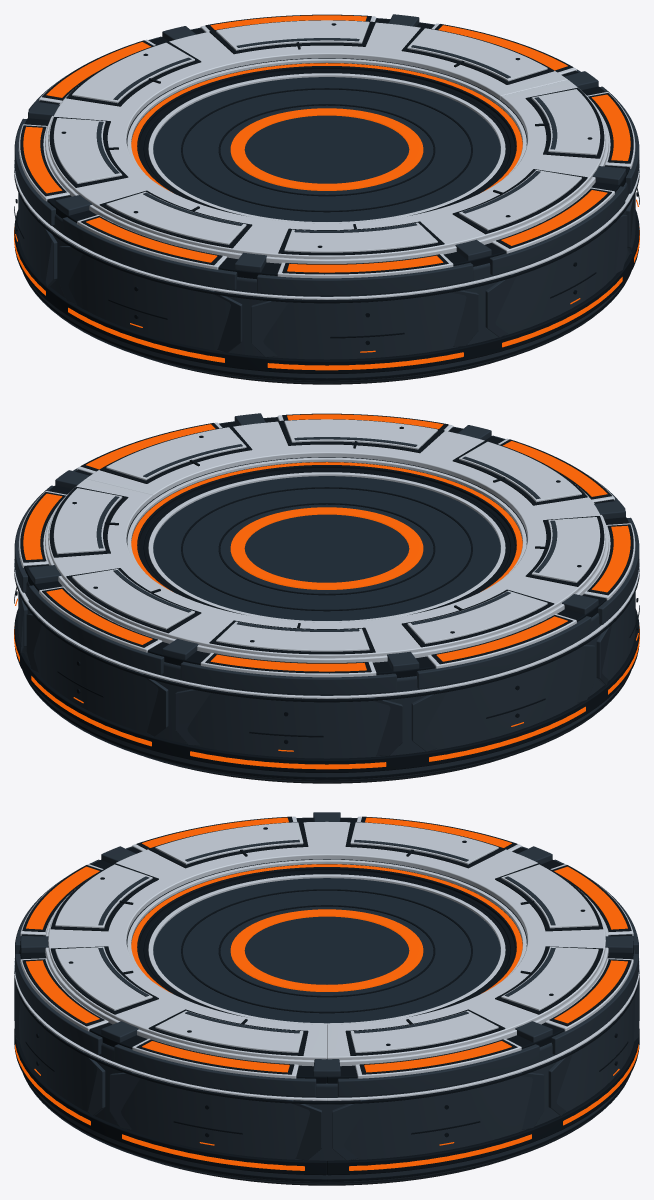
Rendered from Standard.glb.
The picture shows the model from 3 angles, top to bottom: view 1: azimuth 30°, elevation 25°; view 2: azimuth 150°, elevation 25°; view 3: azimuth 270°, elevation 25°; orthographic projection.
Visible parts, largest first — view 1: SM_Puck_Standard_Orange; view 2: SM_Puck_Standard_Orange; view 3: SM_Puck_Standard_Orange.
Boxes of the visible parts, box(x1,y1,x2,y2) form: SM_Puck_Standard_Orange: box(14, 14, 639, 384); SM_Puck_Standard_Orange: box(14, 413, 639, 783); SM_Puck_Standard_Orange: box(14, 812, 639, 1185).
Size of the model in its own units: 0.8991 by 0.1992 by 0.8991.
